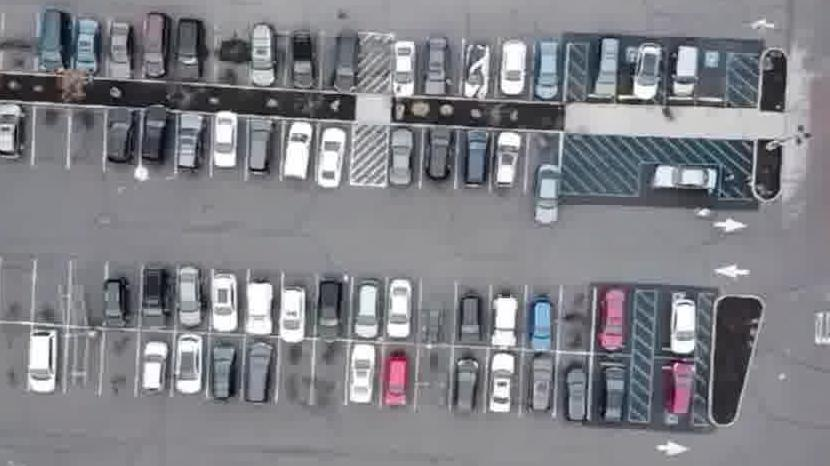car: (342, 341, 380, 408), (22, 329, 57, 399), (35, 9, 71, 74), (172, 18, 207, 83), (313, 125, 348, 190), (644, 159, 715, 191), (139, 12, 170, 81), (102, 107, 138, 166), (484, 353, 517, 417), (240, 343, 272, 409), (168, 337, 202, 399), (491, 128, 524, 191), (140, 105, 173, 168), (204, 342, 236, 405), (312, 280, 343, 345), (329, 29, 360, 93), (280, 123, 313, 183), (274, 286, 308, 344), (136, 268, 167, 331), (134, 338, 165, 401), (243, 118, 275, 179), (596, 284, 626, 349), (534, 163, 563, 228), (385, 274, 414, 339), (249, 21, 277, 88), (449, 353, 480, 413), (380, 352, 411, 412), (597, 361, 626, 425), (242, 280, 274, 338), (627, 41, 660, 97), (350, 277, 378, 343), (206, 274, 236, 335), (387, 126, 416, 188), (425, 125, 455, 184), (462, 127, 491, 188), (486, 290, 517, 347), (496, 39, 525, 99), (419, 37, 448, 97), (560, 360, 588, 422), (176, 114, 205, 173), (663, 357, 692, 416), (590, 35, 619, 93), (73, 19, 102, 77), (99, 277, 129, 333), (667, 295, 695, 354), (534, 39, 561, 100), (291, 30, 317, 93), (389, 37, 416, 97), (172, 265, 197, 329), (462, 40, 490, 97), (526, 353, 553, 412), (213, 112, 239, 173), (669, 44, 698, 97), (528, 295, 557, 348), (107, 20, 132, 81), (0, 105, 23, 163), (456, 294, 480, 347)
